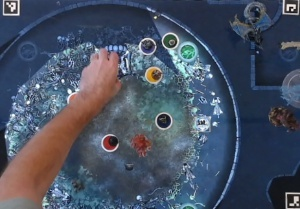blue: (153, 111, 172, 129)
green: (160, 31, 181, 50)
orange: (64, 92, 83, 110)
red: (99, 132, 119, 153)
violet: (136, 36, 156, 56)
yellow: (143, 66, 163, 86)
